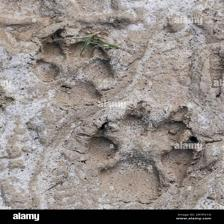wolf: (85, 106, 203, 206), (27, 32, 115, 112)
